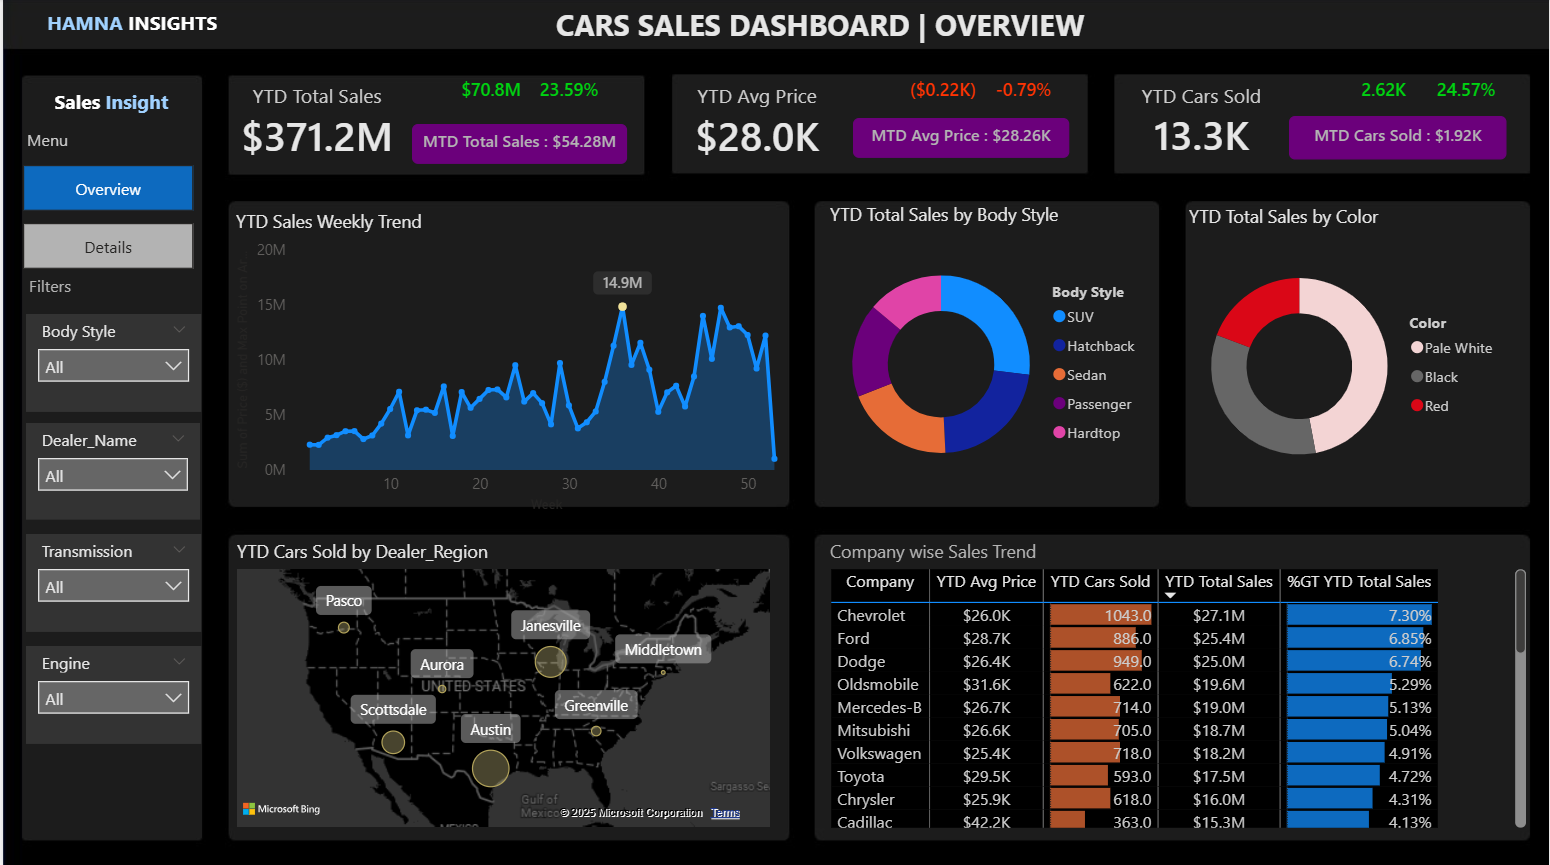

The page's visual inventory and layout, read from the dashboard file:
{"tool":"powerbi","page":{"name":"Overview","canvas":[1280,720],"ordinal":0},"visuals":[{"type":"card","title":"YTD Total Sales","fields":{"Values":["car_data.YTD Total Sales"]},"box":[180.9,69.1,157.6,67.1],"z":0},{"type":"card","fields":{"Values":["car_data.Sales Difference"]},"box":[369.9,62.1,67.9,29.8],"z":1000},{"type":"card","fields":{"Values":["car_data.YOY Sales Growth"]},"box":[434.5,62.1,67.9,29.8],"z":2000},{"type":"card","fields":{"Values":["car_data.MTD KPI"]},"box":[338.5,103.1,178,33.1],"z":3000},{"type":"card","title":"YTD Avg Price","fields":{"Values":["car_data.YTD Avg Price"]},"box":[545.7,69.1,157.6,67.1],"z":4000},{"type":"card","fields":{"Values":["car_data.Avg Price Diff"]},"box":[744,61.2,67.9,30.6],"z":5000},{"type":"card","fields":{"Values":["car_data.YOY Avg Price Growth"]},"box":[811,61.2,67,30.6],"z":6000},{"type":"card","fields":{"Values":["car_data.MTD Avg Price KPI"]},"box":[703.1,98.8,178.9,33.2],"z":7000},{"type":"card","title":"YTD Cars Sold","fields":{"Values":["car_data.YTD Cars Sold"]},"box":[912.5,68.6,158.2,66.8],"z":8000},{"type":"card","fields":{"Values":["car_data.Cars Sold Diff"]},"box":[1108.1,60.4,68.7,32.3],"z":9000},{"type":"card","fields":{"Values":["car_data.YOY Car Sold Growth"]},"box":[1176.8,60.4,67.9,33.1],"z":10000},{"type":"card","fields":{"Values":["car_data.MTD Cars Sold KPI"]},"box":[1064.3,96.8,180.4,35.6],"z":11000},{"type":"areaChart","title":"YTD Sales Weekly Trend","fields":{"Category":["Calendar Table.Week"],"Y":["car_data.Price ($)","car_data.Max Point on Area Chart"]},"box":[188.1,174.1,473,254.9],"z":12000},{"type":"donutChart","fields":{"Category":["car_data.Body Style"],"Y":["car_data.YTD Total Sales"]},"box":[679.7,168.2,271.7,248.4],"z":13000},{"type":"donutChart","fields":{"Y":["car_data.YTD Total Sales"],"Category":["car_data.Color"]},"box":[976.5,169.3,270.5,248.5],"z":14000},{"type":"map","fields":{"Category":["car_data.Dealer_Region"],"Size":["car_data.YTD Cars Sold"]},"box":[188.9,446.8,451.1,243.2],"z":15000},{"type":"tableEx","title":"Company wise Sales Trend","fields":{"Values":["car_data.Company","car_data.YTD Avg Price","car_data.YTD Cars Sold","car_data.YTD Total Sales1","car_data.YTD Total Sales"]},"box":[679.4,446.7,585.6,244],"z":16000},{"type":"textbox","box":[452.3,0,501.1,58.2],"z":17000},{"type":"slicer","fields":{"Values":["car_data.Dealer_Name"]},"box":[19,351.1,144,80.2],"z":18000},{"type":"slicer","fields":{"Values":["car_data.Transmission"]},"box":[19,442.5,144.9,81.1],"z":19000},{"type":"slicer","fields":{"Values":["car_data.Body Style"]},"box":[19,260.5,144.9,81.1],"z":20000},{"type":"slicer","fields":{"Values":["car_data.Engine"]},"box":[19,535.6,144.9,81.1],"z":21000},{"type":"textbox","box":[16.4,223.4,150.1,31.9],"z":22000},{"type":"textbox","box":[19,69,141.5,33.6],"z":23000},{"type":"textbox","box":[14.7,102.6,150.1,31.9],"z":24000},{"type":"pageNavigator","box":[16.7,137,141.4,86],"z":24001},{"type":"textbox","box":[16.7,3.5,180.9,33.4],"z":24002}]}

Visuals, with their boxes in screenshot pixels (x1, y1, x2, y2), scaled from the page's 1280x720 canvas onto the 1550x865 screenshot:
"YTD Total Sales" card: box(219, 83, 410, 164)
card - car_data.Sales Difference: box(448, 75, 530, 110)
card - car_data.YOY Sales Growth: box(526, 75, 608, 110)
card - car_data.MTD KPI: box(410, 124, 625, 164)
"YTD Avg Price" card: box(661, 83, 852, 164)
card - car_data.Avg Price Diff: box(901, 74, 983, 110)
card - car_data.YOY Avg Price Growth: box(982, 74, 1063, 110)
card - car_data.MTD Avg Price KPI: box(851, 119, 1068, 159)
"YTD Cars Sold" card: box(1105, 82, 1297, 163)
card - car_data.Cars Sold Diff: box(1342, 73, 1425, 111)
card - car_data.YOY Car Sold Growth: box(1425, 73, 1507, 112)
card - car_data.MTD Cars Sold KPI: box(1289, 116, 1507, 159)
"YTD Sales Weekly Trend" areaChart: box(228, 209, 801, 515)
donutChart - car_data.Body Style x car_data.YTD Total Sales: box(823, 202, 1152, 500)
donutChart - car_data.YTD Total Sales x car_data.Color: box(1182, 203, 1510, 502)
map - car_data.Dealer_Region x car_data.YTD Cars Sold: box(229, 537, 775, 829)
"Company wise Sales Trend" tableEx: box(823, 537, 1532, 830)
textbox: box(548, 0, 1155, 70)
slicer - car_data.Dealer_Name: box(23, 422, 197, 518)
slicer - car_data.Transmission: box(23, 532, 198, 629)
slicer - car_data.Body Style: box(23, 313, 198, 410)
slicer - car_data.Engine: box(23, 643, 198, 741)
textbox: box(20, 268, 202, 307)
textbox: box(23, 83, 194, 123)
textbox: box(18, 123, 200, 162)
pageNavigator: box(20, 165, 191, 268)
textbox: box(20, 4, 239, 44)
